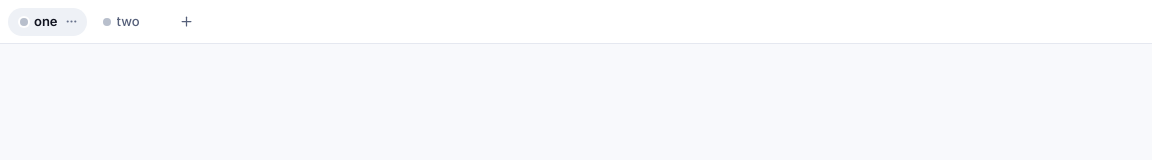
Test: TabBar accessibility › closes the actions menu when focus leaves it (Tab-out)
This screenshot has width=1152, height=160.
Click the button named "Tab actions for one".
click(72, 22)  # box [62,12,82,32]
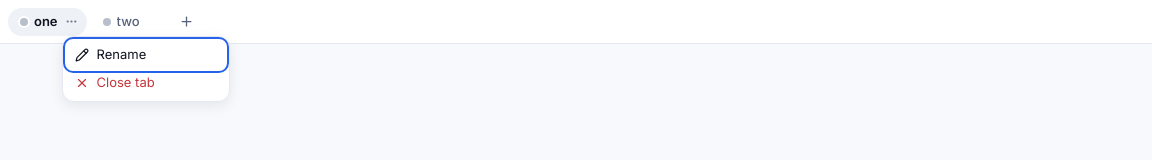
Now the menu is shown
# Focus moves to a control outside the menu, as Tab would take it.
Leave the menu, box [62,36,230,102]
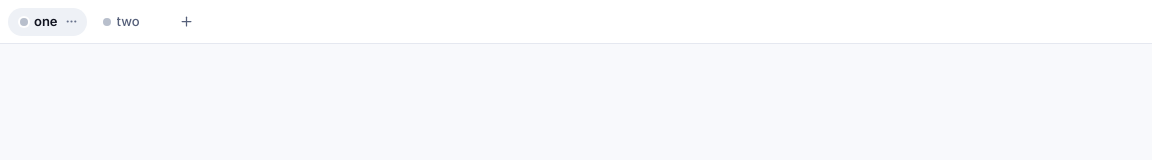
Now the menu is gone
